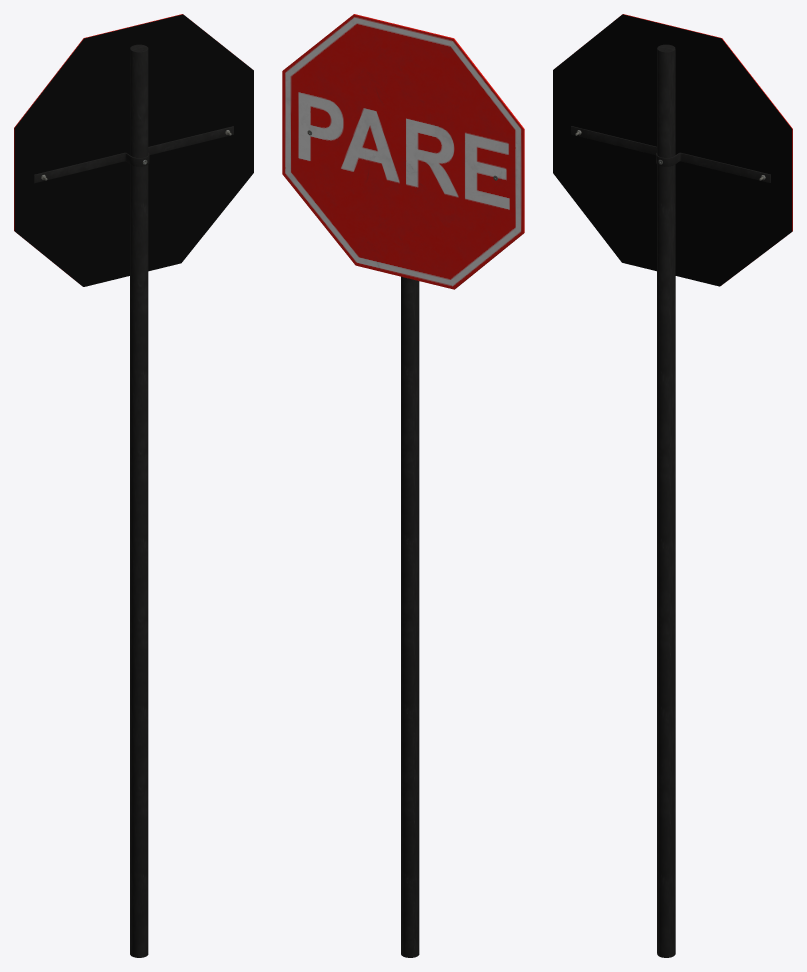
File: pare.obj
3 renders of one model, left to right at view 1: azimuth 30°, elevation 25°; view 2: azimuth 150°, elevation 25°; view 3: azimuth 330°, elevation 25°, orthographic.
Visible parts, largest first — view 1: Road_Sign_-_Pare_Holder.003; view 2: Road_Sign_-_Pare_Holder.003; view 3: Road_Sign_-_Pare_Holder.003.
Part boxes in pixels (x1,y1,x2,y2): Road_Sign_-_Pare_Holder.003: (14, 14, 253, 957); Road_Sign_-_Pare_Holder.003: (282, 14, 524, 957); Road_Sign_-_Pare_Holder.003: (553, 14, 792, 957).
Bounding box in the file's own units: 0.7471 × 2.75 × 0.0683.
Materials: 2 (2 with a texture image).
